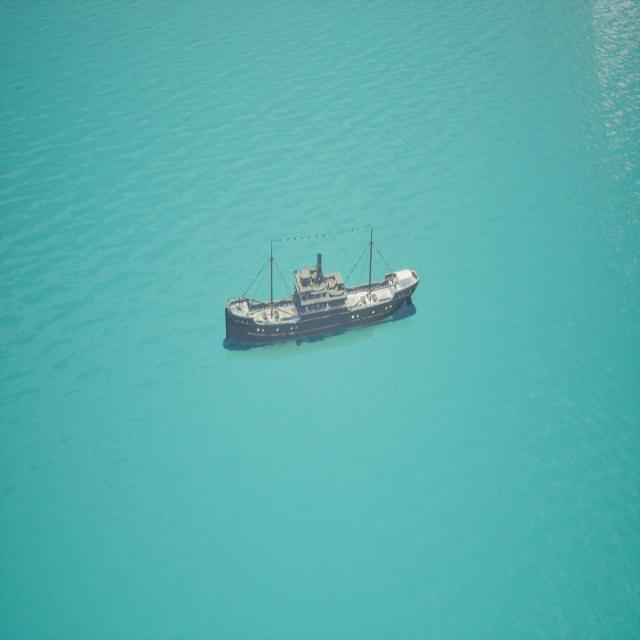fishing ship: (227, 231, 420, 353)
